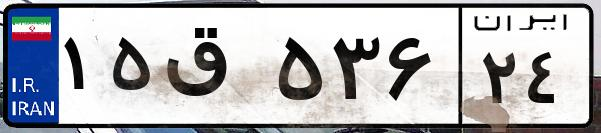1: (57, 26, 110, 100)
2: (475, 38, 525, 113)
3: (330, 28, 385, 110)
4: (525, 38, 570, 115)
5: (270, 28, 330, 110), (110, 28, 158, 98)
6: (385, 28, 445, 110)
ق: (158, 20, 270, 120)
